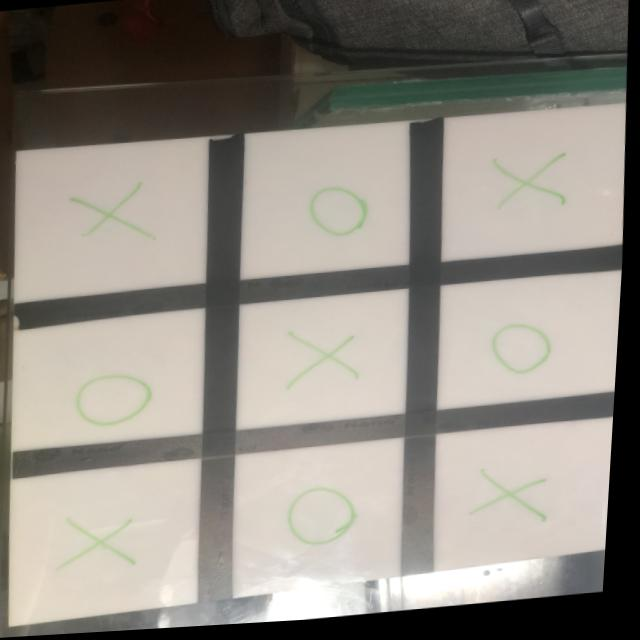o: (286, 483, 369, 556), (74, 368, 162, 431), (304, 180, 381, 249), (490, 323, 559, 385)
table: (14, 111, 629, 627)
x: (65, 179, 162, 251), (284, 322, 371, 398), (482, 462, 563, 538), (59, 509, 146, 579), (487, 155, 578, 218)
